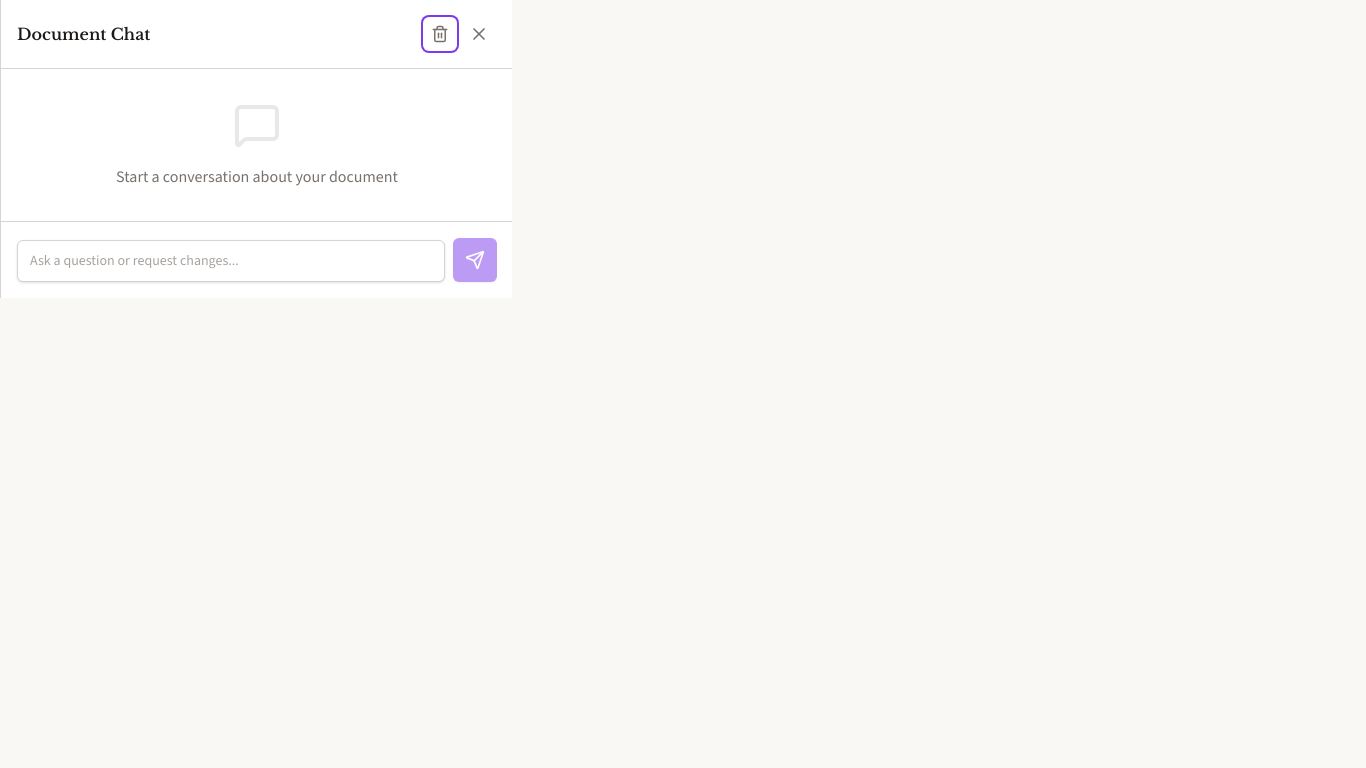
Test: ChatSidebar › Clear History › should close dialog when cancelled
This screenshot has width=1366, height=768.
What coordinates should you click on to do the following:
click the button with test id "chat-clear-history"
I would click on:
 (440, 34)
Its box is [423,17,457,51].
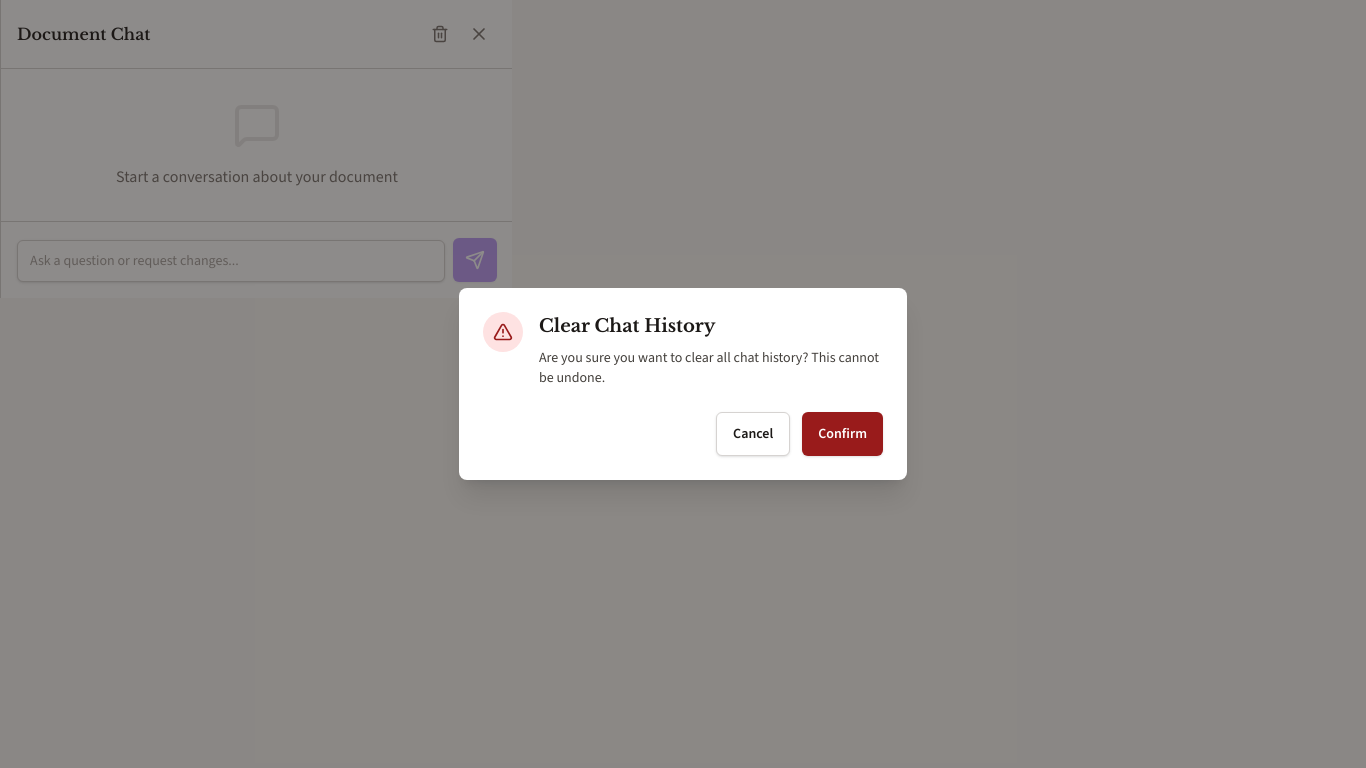
What coordinates should you click on to do the following:
click the button with test id "confirm-cancel"
I would click on:
 (753, 434)
Its box is [716,412,790,456].
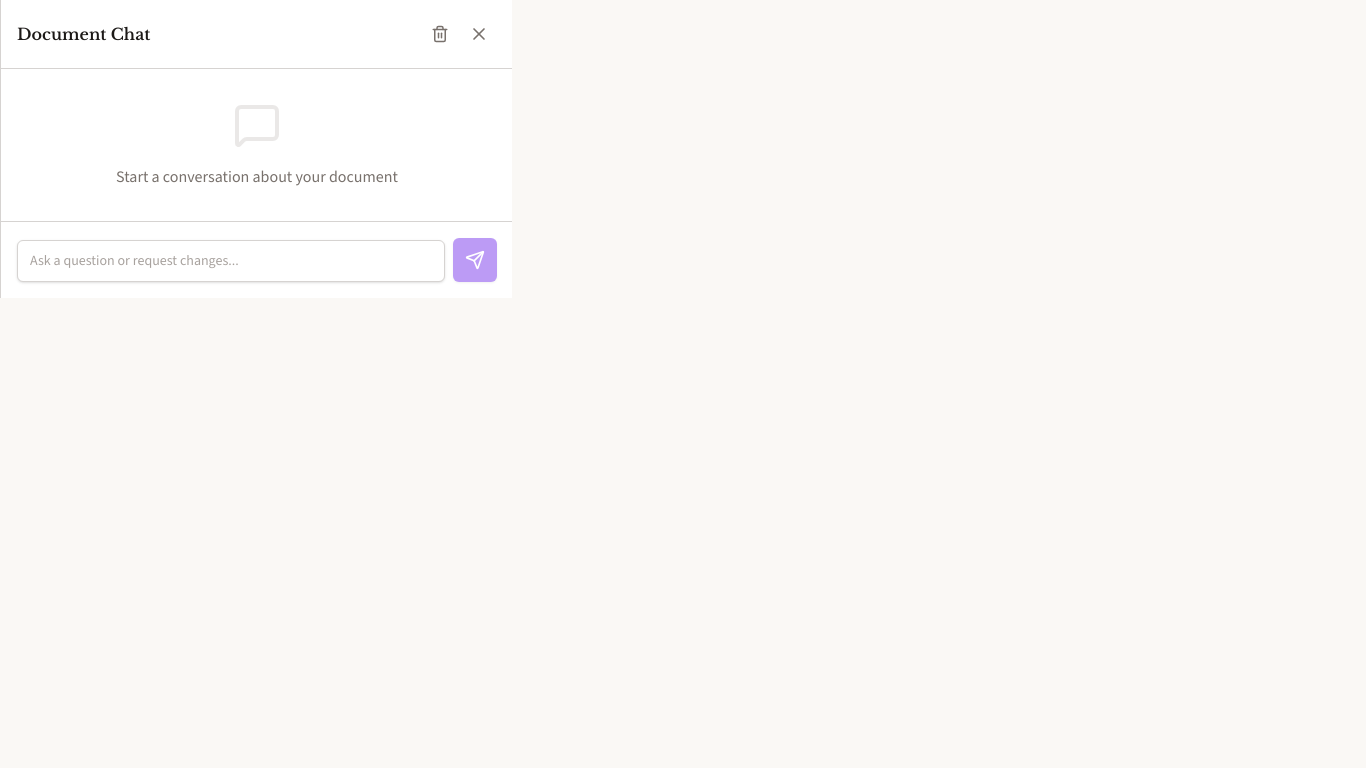
Expected: the heading "Clear Chat History" is gone
